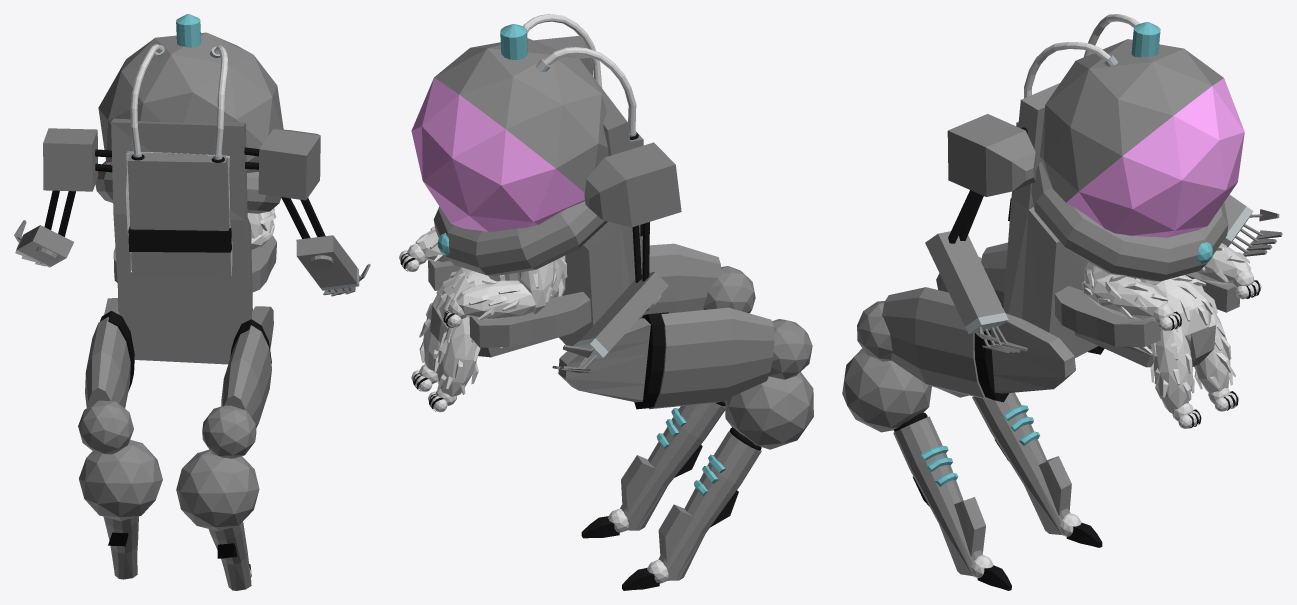
3 renders of one model, left to right at view 1: azimuth 30°, elevation 25°; view 2: azimuth 150°, elevation 25°; view 3: azimuth 270°, elevation 25°, orthographic. The views are drawn at different scales.
Visible parts, largest first — view 1: node_MeshObject1681138560-PolyPaper23, node_MeshObject-1576388608-PolyPaper21, node_MeshObject1162418496-PolyPaper21; view 2: node_MeshObject1681138560-PolyPaper23, node_MeshObject-1576388608-PolyPaper21, node_MeshObject-2095108672-PolyGem25, node_MeshObject1162418496-PolyPaper21; view 3: node_MeshObject1681138560-PolyPaper23, node_MeshObject-1576388608-PolyPaper21, node_MeshObject-2095108672-PolyGem25, node_MeshObject1162418496-PolyPaper21, node_MeshObject-1057668544-PolyPaper21.
Part boxes in pixels (box(x1,y1,x2,y2)): node_MeshObject1681138560-PolyPaper23: box(78, 32, 283, 590); node_MeshObject-1576388608-PolyPaper21: box(14, 14, 370, 296); node_MeshObject1162418496-PolyPaper21: box(247, 211, 275, 249); node_MeshObject1681138560-PolyPaper23: box(411, 38, 813, 590); node_MeshObject-1576388608-PolyPaper21: box(419, 14, 681, 394); node_MeshObject-2095108672-PolyGem25: box(411, 78, 584, 232); node_MeshObject1162418496-PolyPaper21: box(399, 229, 574, 412); node_MeshObject1681138560-PolyPaper23: box(842, 39, 1239, 590); node_MeshObject-1576388608-PolyPaper21: box(925, 14, 1282, 400); node_MeshObject-2095108672-PolyGem25: box(1066, 78, 1244, 237); node_MeshObject1162418496-PolyPaper21: box(1074, 245, 1261, 413); node_MeshObject-1057668544-PolyPaper21: box(1084, 269, 1168, 319).
Bounding box in the file's own units: 3.1 × 5 × 3.51.
